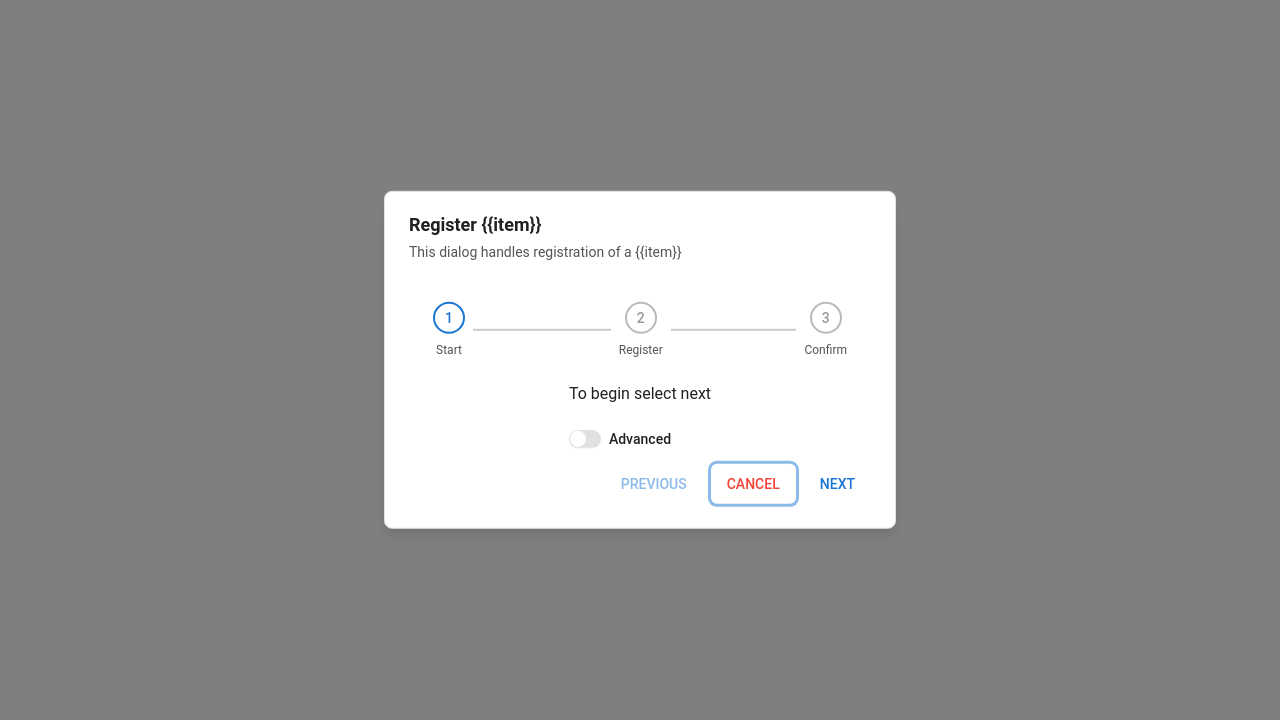
Test: advanced options › hides pickers that only offer a single value
Expected: the text "To begin select next" is shown, 569,382 -> 711,406
What coordinates should you click on to do the following:
click the switch with id "one-time-password-advanced"
I would click on:
 (585, 439)
Its box is 569,430 -> 601,448.
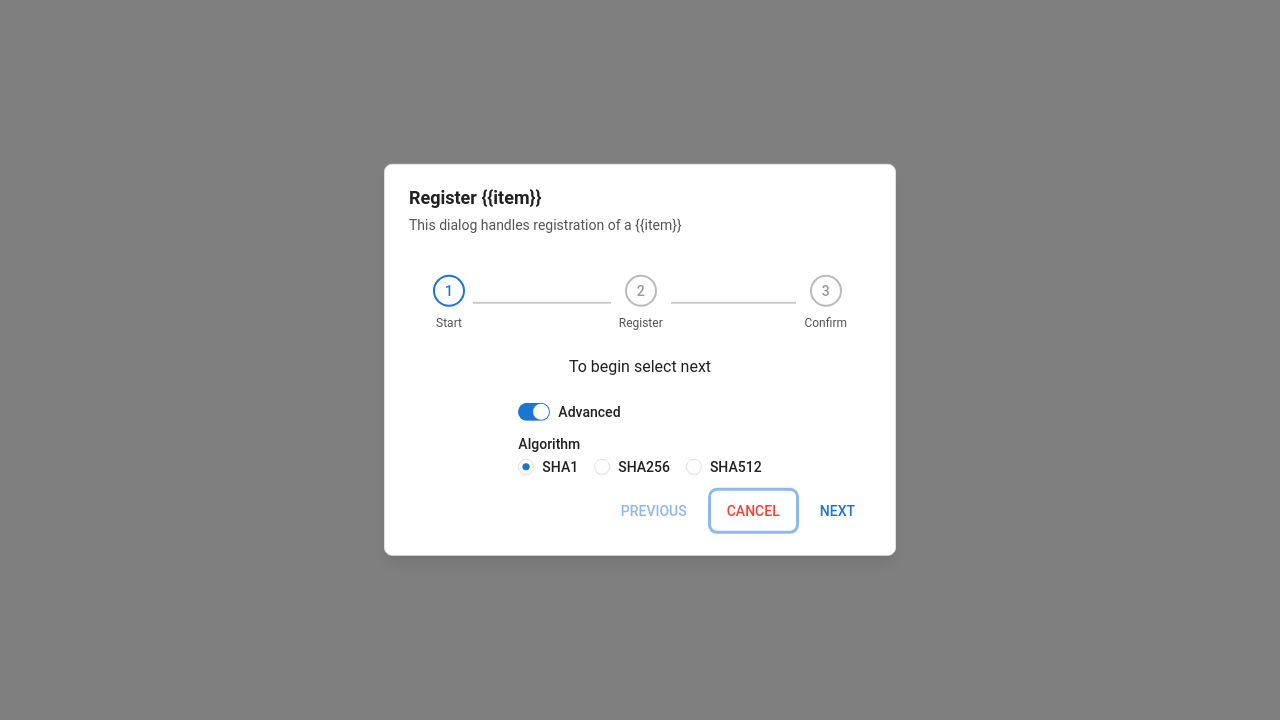
Expected: the radio button with id "one-time-password-algorithm-SHA256" is shown, 594,459 -> 610,475
